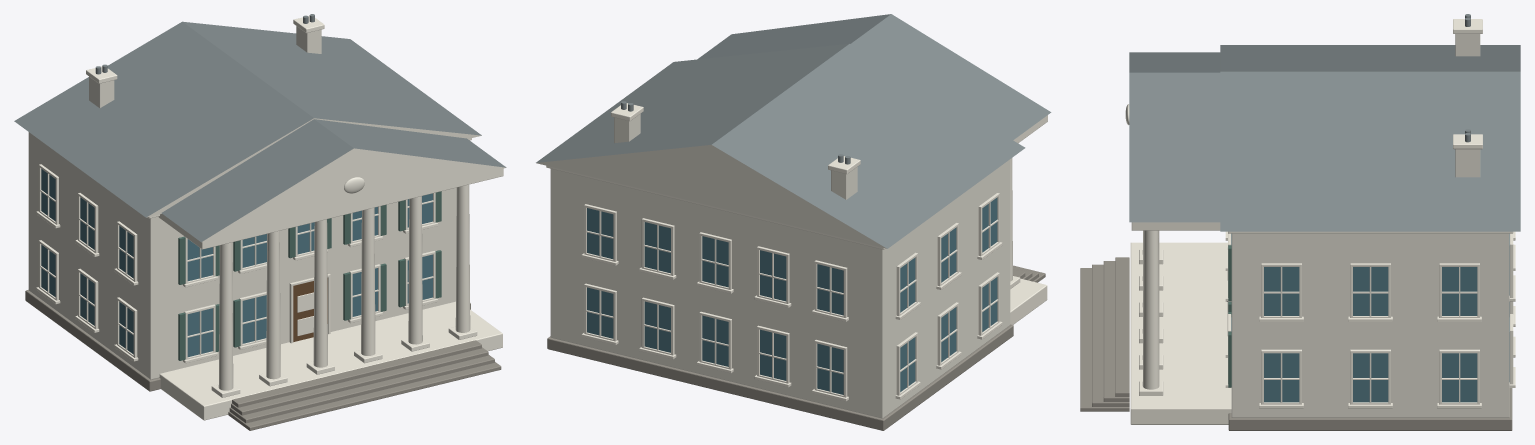
File: large_greek_revival.glb
3 renders of one model, left to right at view 1: azimuth 30°, elevation 25°; view 2: azimuth 150°, elevation 25°; view 3: azimuth 270°, elevation 25°, orthographic. The views are drawn at different scales.
Parts seen in each view (by area): view 1: Long temple-like main roof solid gabled roof, Two-story Greek Revival main block closed exterior walls, Projecting temple pediment solid gabled roof, Full-width raised portico platform, Temple portico entablature, Broad temple entrance stair step 4, Broad temple entrance stair step 2, Broad temple entrance stair step 1, Broad temple entrance stair step 3, Tall classical facade column 2 tapered shaft, Tall classical facade column 5 tapered shaft, Tall classical facade column 3 tapered shaft (+20 smaller); view 2: Long temple-like main roof solid gabled roof, Two-story Greek Revival main block closed exterior walls, Projecting temple pediment solid gabled roof, Two-story Greek Revival main block closed foundation, Full-width raised portico platform, Greek Revival rear sash glazing.004, Greek Revival rear sash glazing.005, Greek Revival rear sash glazing.008, Greek Revival rear sash glazing.009, Greek Revival rear sash glazing, Greek Revival rear sash glazing.006, Greek Revival rear sash glazing.007 (+12 smaller); view 3: Long temple-like main roof solid gabled roof, Two-story Greek Revival main block closed exterior walls, Projecting temple pediment solid gabled roof, Full-width raised portico platform, Two-story Greek Revival main block closed foundation, Tall classical facade column 6 tapered shaft, Broad temple entrance stair step 4, Broad temple entrance stair step 1, Broad temple entrance stair step 3, Broad temple entrance stair step 2, Greek Revival side sash glazing, Greek Revival side sash glazing.001 (+9 smaller).
Boxes of the visible parts, bbox=[...] form: Long temple-like main roof solid gabled roof: bbox=[14, 21, 481, 217]; Two-story Greek Revival main block closed exterior walls: bbox=[28, 132, 456, 379]; Projecting temple pediment solid gabled roof: bbox=[161, 119, 506, 242]; Full-width raised portico platform: bbox=[159, 301, 502, 420]; Temple portico entablature: bbox=[158, 168, 503, 249]; Broad temple entrance stair step 4: bbox=[232, 340, 481, 407]; Broad temple entrance stair step 2: bbox=[229, 355, 494, 423]; Broad temple entrance stair step 1: bbox=[228, 362, 501, 430]; Broad temple entrance stair step 3: bbox=[231, 347, 488, 415]; Tall classical facade column 2 tapered shaft: bbox=[266, 231, 280, 379]; Tall classical facade column 5 tapered shaft: bbox=[408, 196, 422, 344]; Tall classical facade column 3 tapered shaft: bbox=[313, 219, 327, 367]; Long temple-like main roof solid gabled roof: bbox=[536, 43, 1025, 248]; Two-story Greek Revival main block closed exterior walls: bbox=[550, 159, 1010, 418]; Projecting temple pediment solid gabled roof: bbox=[697, 14, 1051, 140]; Two-story Greek Revival main block closed foundation: bbox=[547, 324, 1013, 430]; Full-width raised portico platform: bbox=[1010, 278, 1047, 324]; Greek Revival rear sash glazing.004: bbox=[702, 315, 728, 366]; Greek Revival rear sash glazing.005: bbox=[702, 236, 728, 287]; Greek Revival rear sash glazing.008: bbox=[587, 287, 613, 338]; Greek Revival rear sash glazing.009: bbox=[587, 208, 613, 259]; Greek Revival rear sash glazing: bbox=[817, 343, 843, 394]; Greek Revival rear sash glazing.006: bbox=[644, 301, 670, 352]; Greek Revival rear sash glazing.007: bbox=[644, 222, 670, 273]; Long temple-like main roof solid gabled roof: bbox=[1220, 45, 1520, 231]; Two-story Greek Revival main block closed exterior walls: bbox=[1231, 233, 1509, 417]; Projecting temple pediment solid gabled roof: bbox=[1129, 52, 1220, 222]; Full-width raised portico platform: bbox=[1130, 242, 1231, 424]; Two-story Greek Revival main block closed foundation: bbox=[1228, 388, 1512, 430]; Tall classical facade column 6 tapered shaft: bbox=[1142, 230, 1159, 389]; Broad temple entrance stair step 4: bbox=[1115, 257, 1129, 396]; Broad temple entrance stair step 1: bbox=[1080, 268, 1129, 411]; Broad temple entrance stair step 3: bbox=[1103, 261, 1129, 401]; Broad temple entrance stair step 2: bbox=[1092, 264, 1129, 406]; Greek Revival side sash glazing: bbox=[1264, 353, 1299, 402]; Greek Revival side sash glazing.001: bbox=[1264, 267, 1299, 315].
Size of the model in its own units: 15.9 by 10.72 by 15.84.
